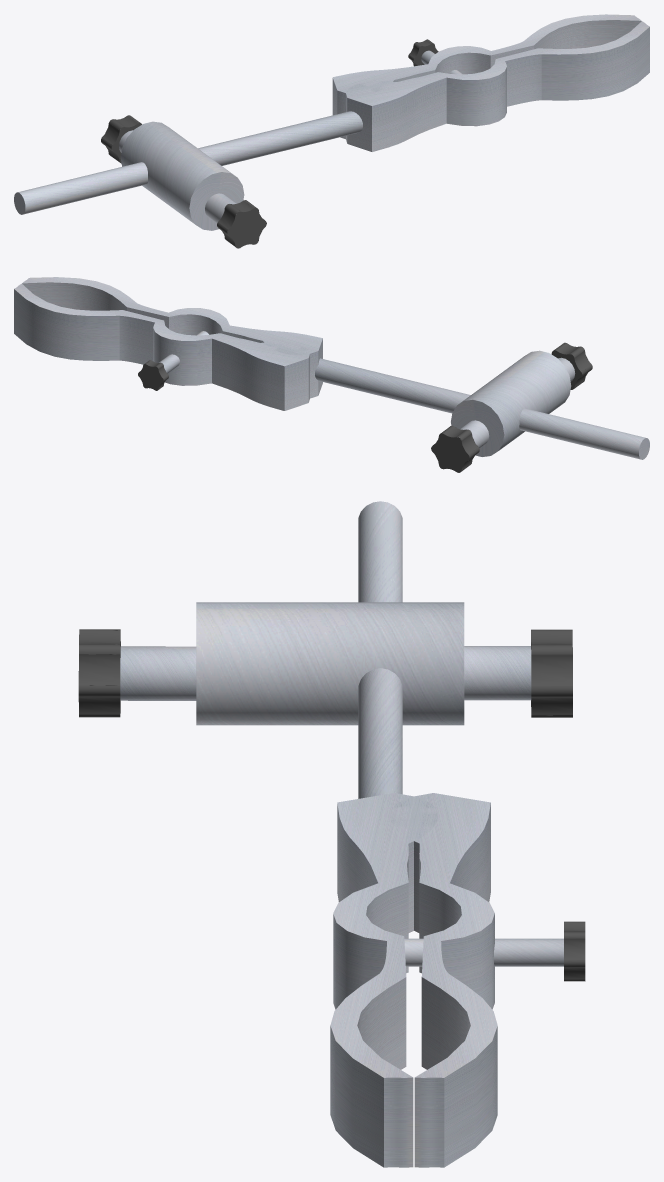
File: qianzi.obj
3 views of the same model, one above another, from view 1: azimuth 30°, elevation 25°; view 2: azimuth 150°, elevation 25°; view 3: azimuth 270°, elevation 25° (orthographic). The views are drawn at different scales.
Parts seen in each view (by area): view 1: Line001, Cylinder005, Cylinder007, Line002, Star003, Star004, Cylinder008, Star001; view 2: Line002, Line001, Cylinder005, Cylinder007, Star004, Star003, Star001, Cylinder009; view 3: Cylinder007, Line001, Line002, Cylinder005, Cylinder008, Star003, Star004, Cylinder009, Cylinder004, Star001.
Part boxes in pixels (x1,y1,x2,y2): Line001: (346,21,649,151); Cylinder005: (14,111,362,214); Cylinder007: (120,121,244,230); Line002: (332,14,641,139); Star003: (217,200,266,248); Star004: (101,115,141,163); Cylinder008: (205,193,236,223); Star001: (408,39,438,66); Line002: (14,283,309,410); Line001: (22,277,322,398); Cylinder005: (315,358,649,459); Cylinder007: (451,350,571,456); Star004: (431,425,479,472); Star003: (551,342,592,389); Star001: (138,360,168,390); Cylinder009: (460,420,489,447); Cylinder007: (196,602,464,725); Line001: (330,793,437,1167); Line002: (390,793,497,1167); Cylinder005: (358,501,402,798); Cylinder008: (120,646,196,700); Star003: (78,629,120,717); Star004: (531,629,572,717); Cylinder009: (464,646,531,700); Cylinder004: (404,938,563,966); Star001: (564,921,585,981).
Size of the model in its own units: 62.8 by 5.39 by 22.41.
2 materials, 1 textured.
